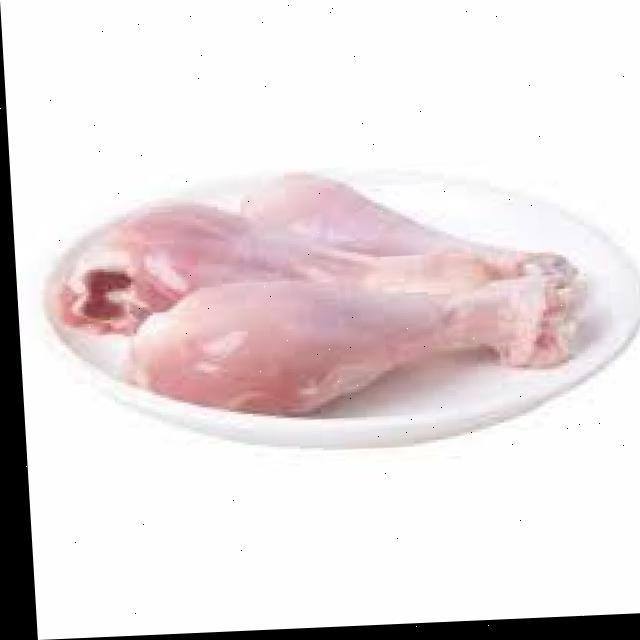leg: (138, 270, 550, 434), (65, 189, 453, 353), (238, 156, 580, 316)
